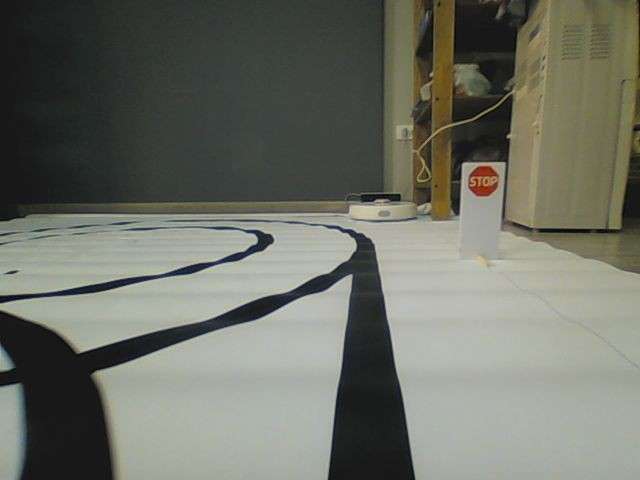Stop: (468, 165, 499, 196)
